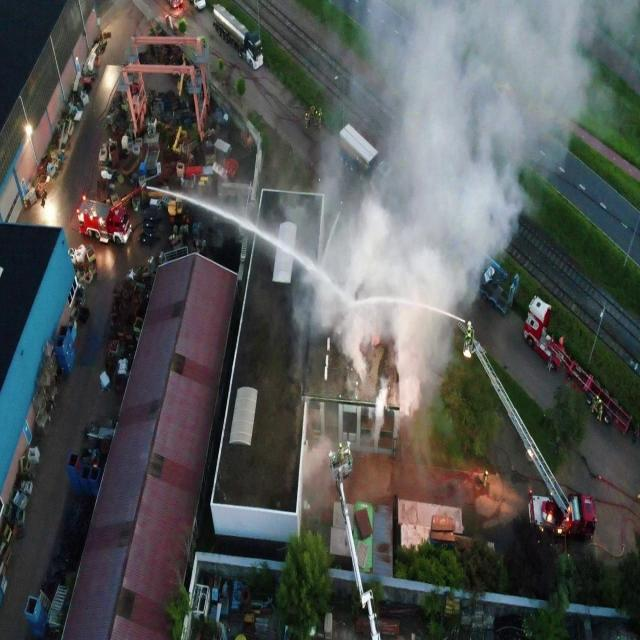Smoke: (291, 0, 640, 443), (300, 434, 336, 512)
